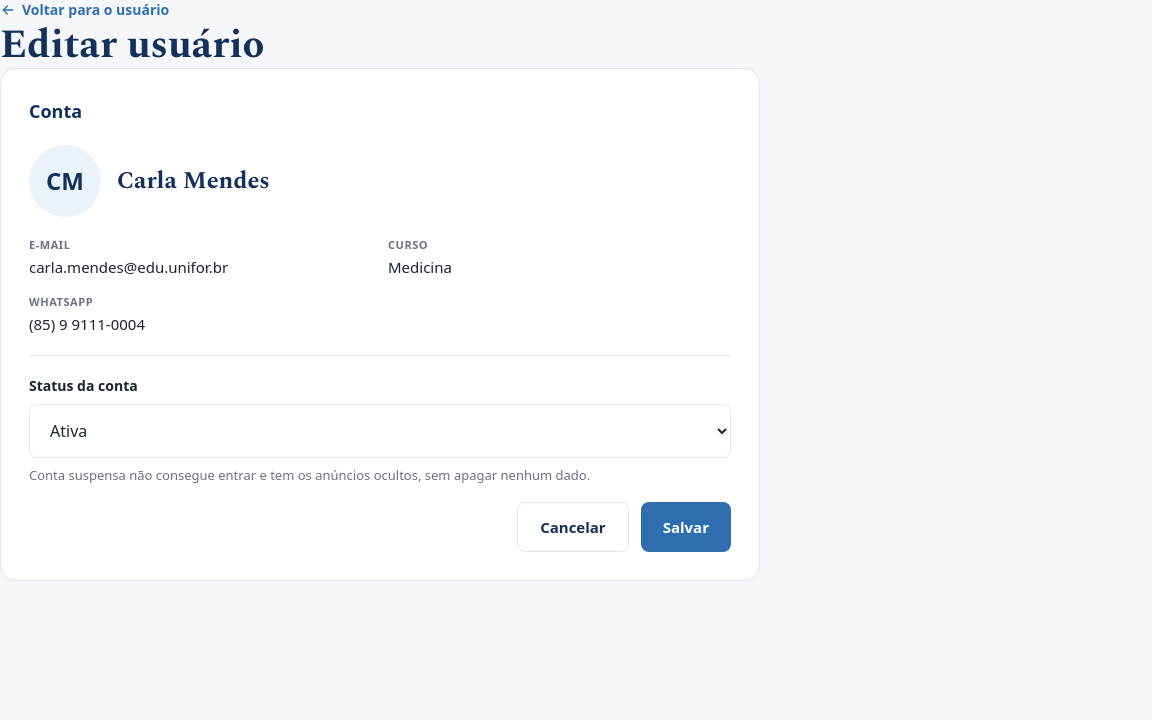
Admin · editar usuário (A02b) › salvar o status abre "Alterações salvas!" e o botão volta aos detalhes com a conta suspensa
Select "Suspensa" in the dropdown labelled "Status da conta" at (380, 431), box [29,404,731,458]
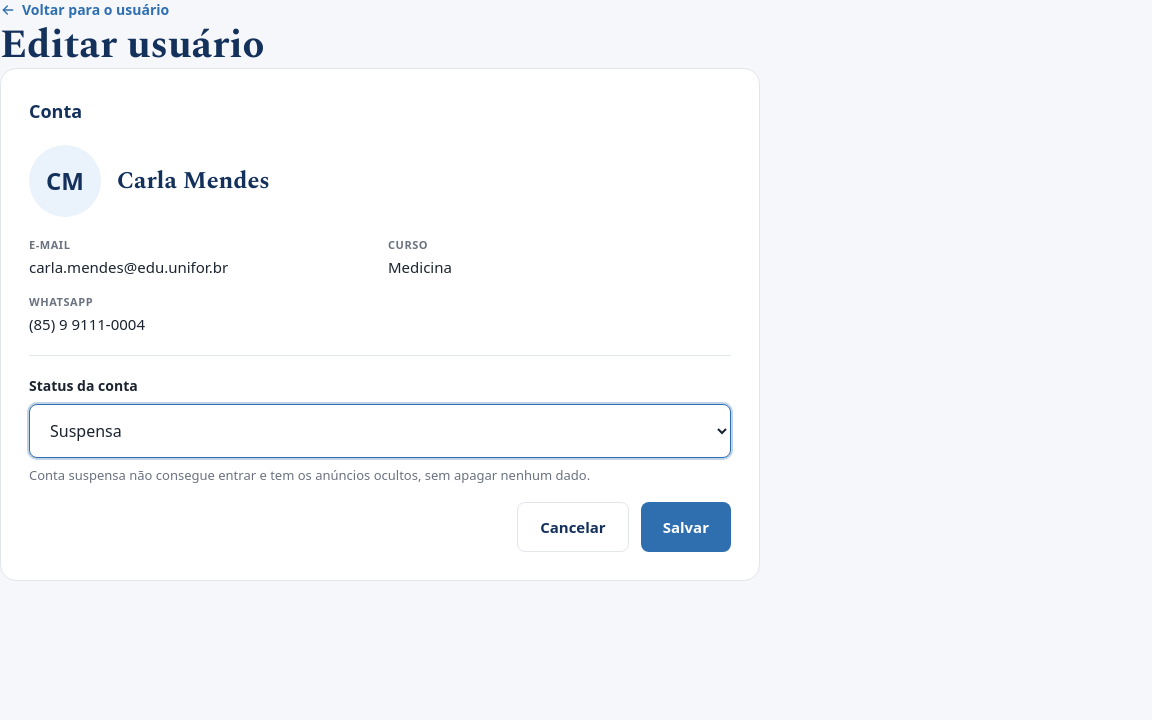
Click the button "Salvar" at (686, 527), box [641,502,731,552]
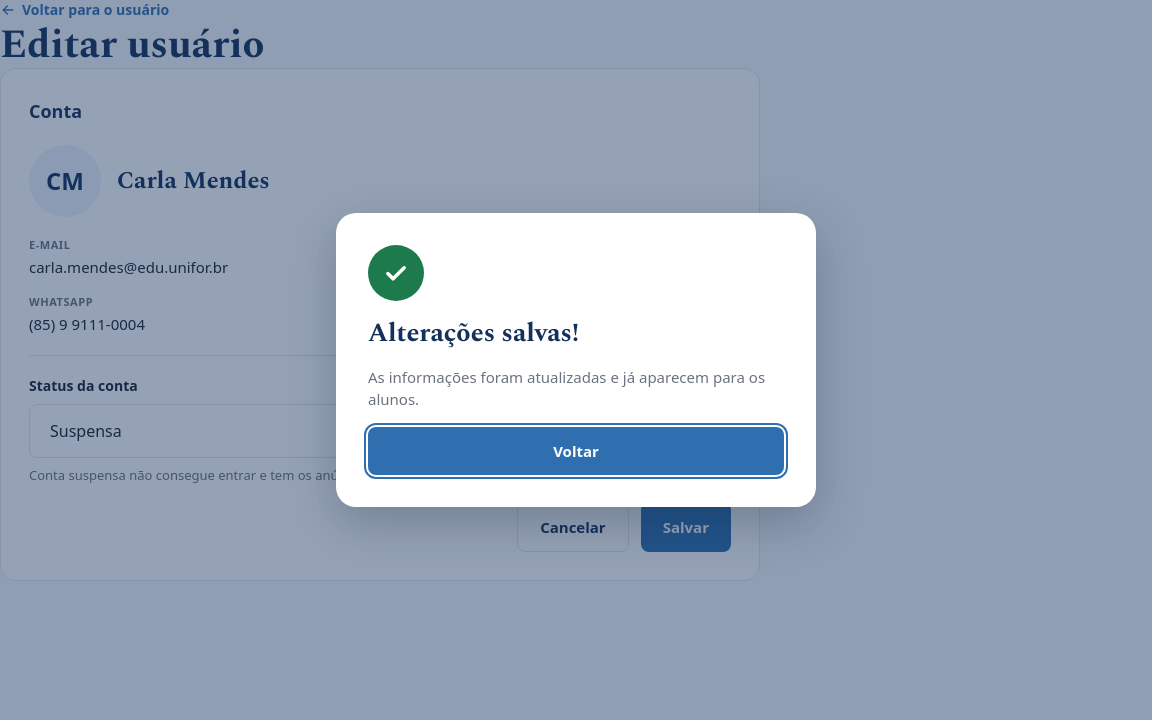
Click the button "Voltar" at (576, 451), box [368,426,784,475]
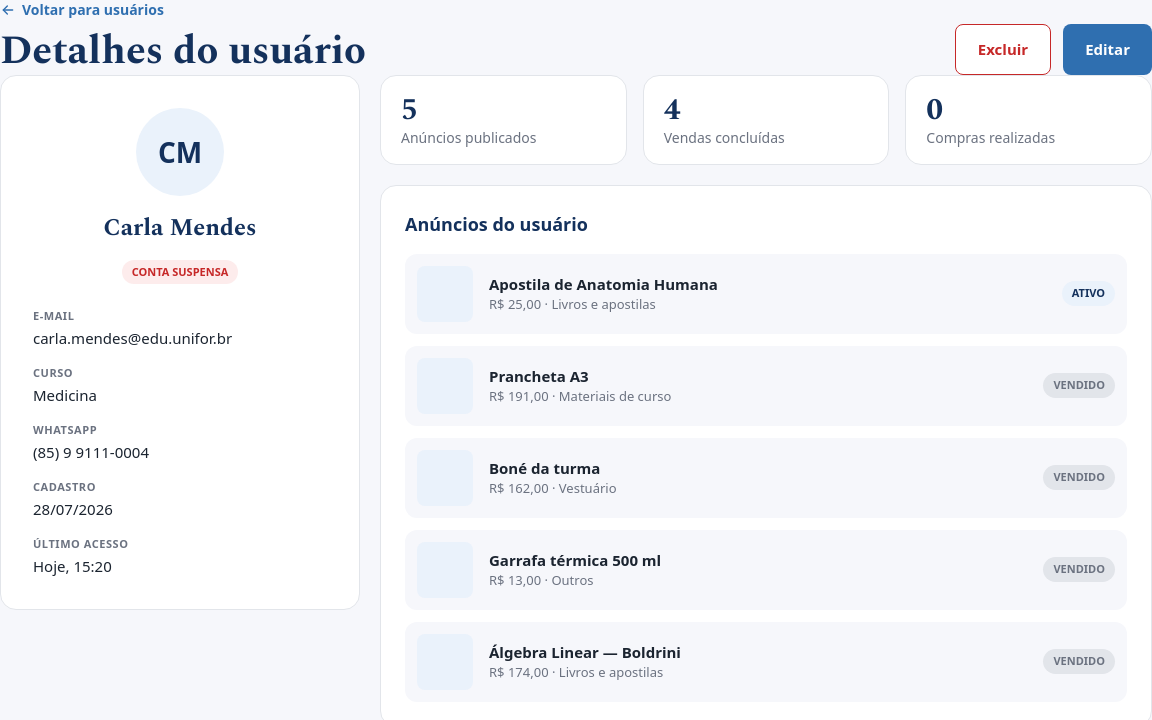
Expected: the text "Conta suspensa" is shown, [122,260,238,284]
Expected: the heading "Detalhes do usuário" is shown, [0,30,366,74]
